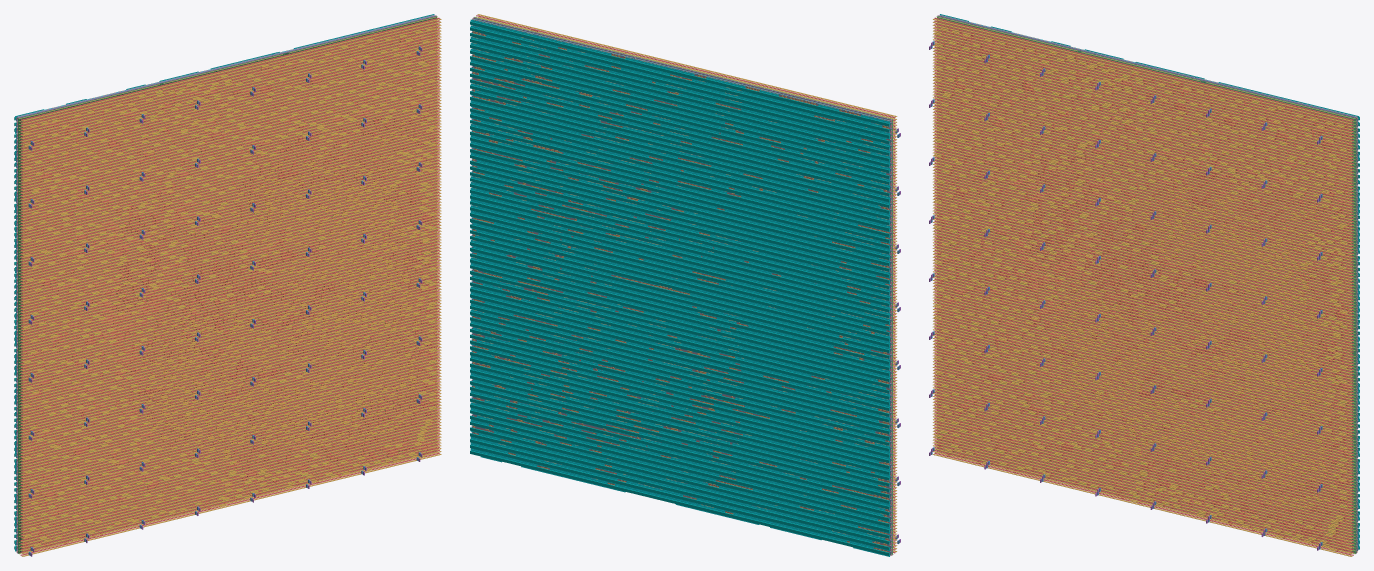
Rendered from cmd_unit.glb.
3 views of the same model, side by side, from view 1: azimuth 30°, elevation 25°; view 2: azimuth 150°, elevation 25°; view 3: azimuth 330°, elevation 25° (orthographic).
Parts seen in each view (by area): view 1: world; view 2: world; view 3: world.
Boxes of the visible parts, bbox=[...] form: world: bbox=[14, 14, 441, 556]; world: bbox=[470, 14, 900, 556]; world: bbox=[929, 14, 1359, 556].
Size of the model in its own units: 40.82 by 40.54 by 2.46.
